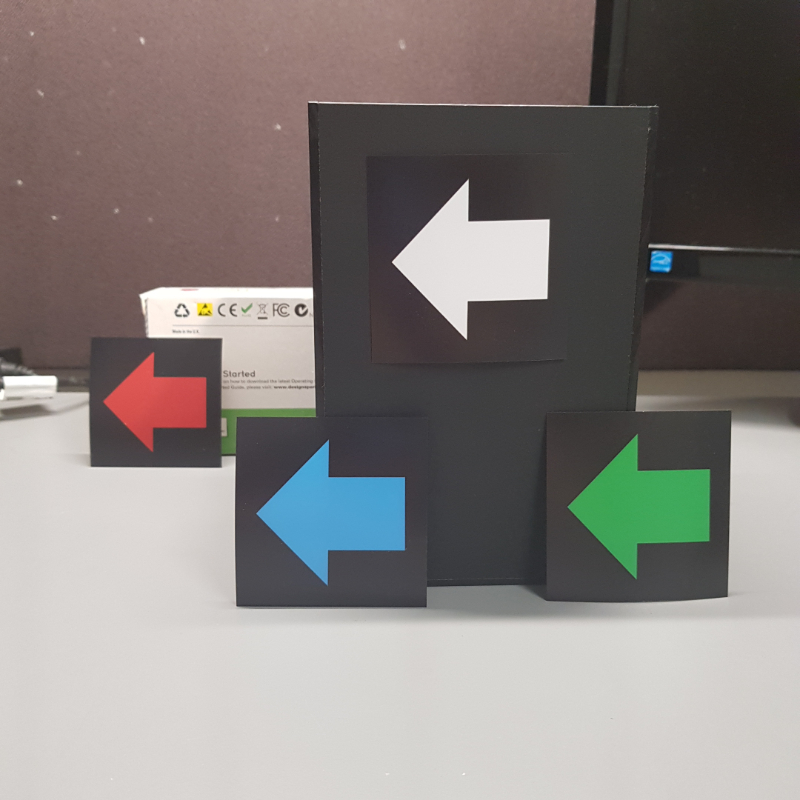DA-2: (95, 341, 217, 465)
LA-4: (242, 426, 423, 602)
RA-3: (557, 419, 727, 591)
UA-1: (375, 165, 558, 353)
